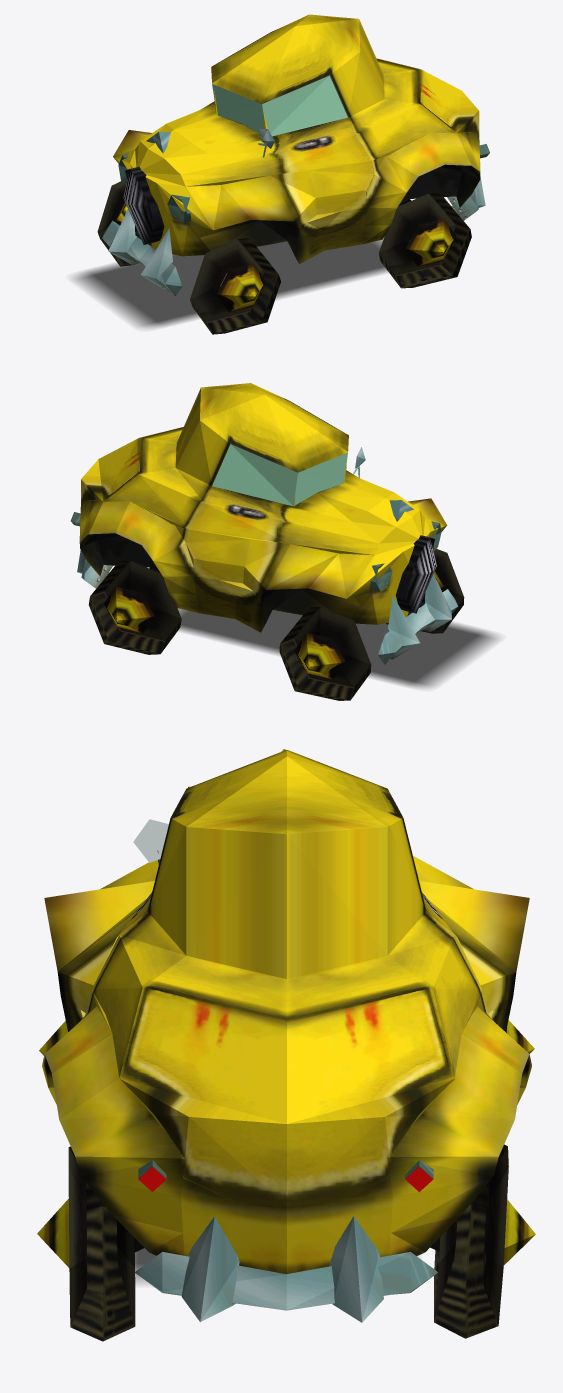
File: hero_car_2742.glb
3 views of the same model, one above another, from view 1: azimuth 30°, elevation 25°; view 2: azimuth 150°, elevation 25°; view 3: azimuth 270°, elevation 25° (orthographic). The views are drawn at different scales.
Parts seen in each view (by area): view 1: auto_ohne_raeder_dstrebenShape, tuer_rShape1, pPlaneShape7, hrlShape, vrlShape, koferraumdeckelShape, kuehlerShape, stoszstange_vShape, vrrShape, stoszstange_lShape, stoszstange_rShape, stoszstange_hShape (+1 smaller); view 2: auto_ohne_raeder_dstrebenShape, tuer_rShape, pPlaneShape7, vrrShape, hrrShape, koferraumdeckelShape, kuehlerShape, stoszstange_vShape, vrlShape, stoszstange_rShape, stoszstange_lShape, stoszstange_hShape; view 3: auto_ohne_raeder_dstrebenShape, koferraumdeckelShape, hrrShape, hrlShape, stoszstange_hShape, stoszstange_lhShape, stoszstange_rhShape, tuer_rShape, tuer_rShape1, pCylinderShape3.
Part boxes in pixels (left/top/right/bottom): auto_ohne_raeder_dstrebenShape: left=113, top=14, right=480, bottom=264; tuer_rShape1: left=262, top=75, right=373, bottom=238; pPlaneShape7: left=73, top=238, right=414, bottom=328; hrlShape: left=379, top=193, right=471, bottom=288; vrlShape: left=190, top=238, right=280, bottom=334; koferraumdeckelShape: left=376, top=58, right=479, bottom=132; kuehlerShape: left=123, top=166, right=164, bottom=244; stoszstange_vShape: left=102, top=220, right=182, bottom=296; vrrShape: left=97, top=181, right=152, bottom=266; stoszstange_lShape: left=141, top=228, right=172, bottom=292; stoszstange_rShape: left=108, top=209, right=139, bottom=264; stoszstange_hShape: left=447, top=191, right=478, bottom=220; auto_ohne_raeder_dstrebenShape: left=79, top=383, right=447, bottom=632; tuer_rShape: left=186, top=444, right=297, bottom=607; pPlaneShape7: left=178, top=608, right=498, bottom=688; vrrShape: left=279, top=607, right=371, bottom=700; hrrShape: left=88, top=560, right=181, bottom=654; koferraumdeckelShape: left=81, top=438, right=139, bottom=501; kuehlerShape: left=396, top=535, right=436, bottom=613; stoszstange_vShape: left=378, top=589, right=458, bottom=664; vrlShape: left=386, top=549, right=464, bottom=633; stoszstange_rShape: left=388, top=595, right=419, bottom=659; stoszstange_lShape: left=423, top=574, right=451, bottom=631; stoszstange_hShape: left=81, top=559, right=112, bottom=588; auto_ohne_raeder_dstrebenShape: left=42, top=750, right=531, bottom=1274; koferraumdeckelShape: left=119, top=988, right=454, bottom=1206; hrrShape: left=434, top=1144, right=535, bottom=1338; hrlShape: left=37, top=1146, right=135, bottom=1341; stoszstange_hShape: left=134, top=1252, right=438, bottom=1310; stoszstange_lhShape: left=181, top=1216, right=239, bottom=1321; stoszstange_rhShape: left=329, top=1216, right=383, bottom=1322; tuer_rShape: left=421, top=891, right=516, bottom=1027; tuer_rShape1: left=58, top=892, right=151, bottom=1027; pCylinderShape3: left=133, top=819, right=168, bottom=862.
Size of the model in its own units: 0.4368 by 0.2532 by 0.2565.
Materials: 41 (32 with a texture image).
